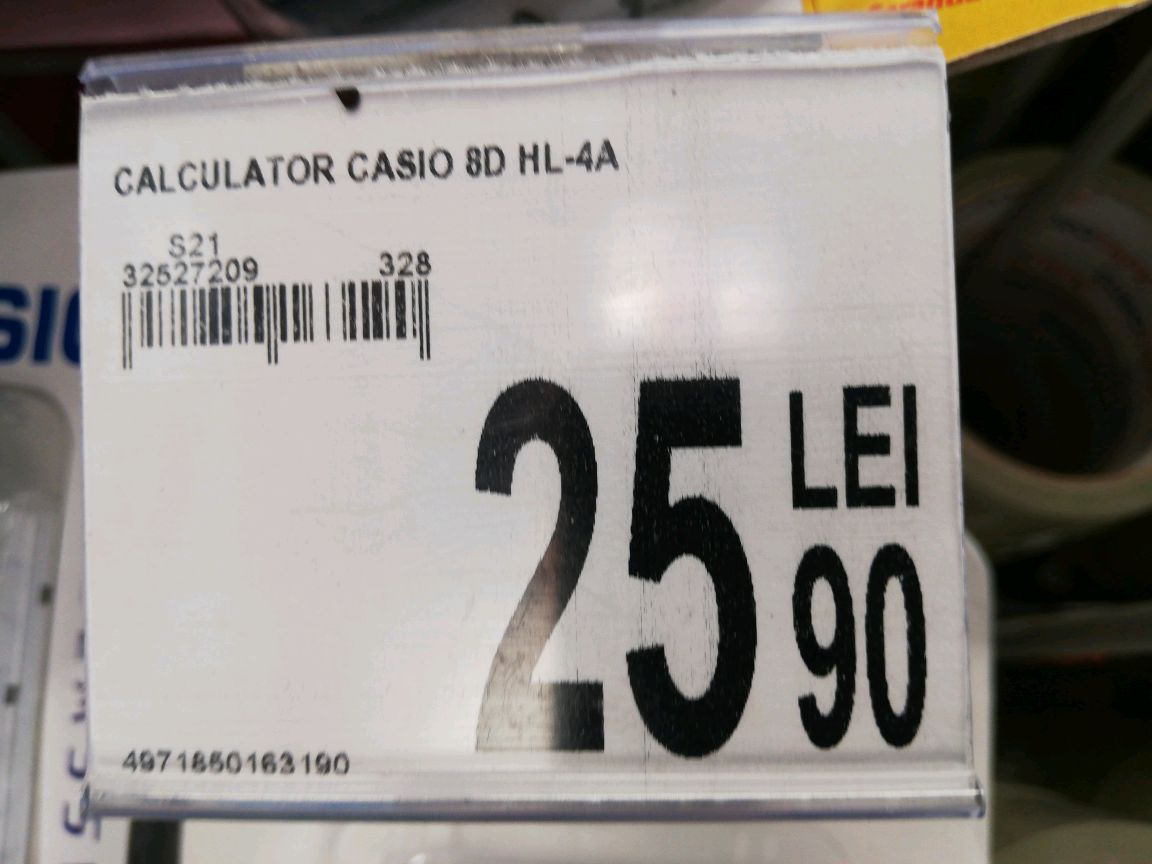price_bani: (779, 534, 936, 765)
price_lei: (462, 360, 768, 773)
price_tag: (63, 34, 982, 831)
product_id: (113, 745, 358, 789)
product_name: (108, 134, 627, 204)
